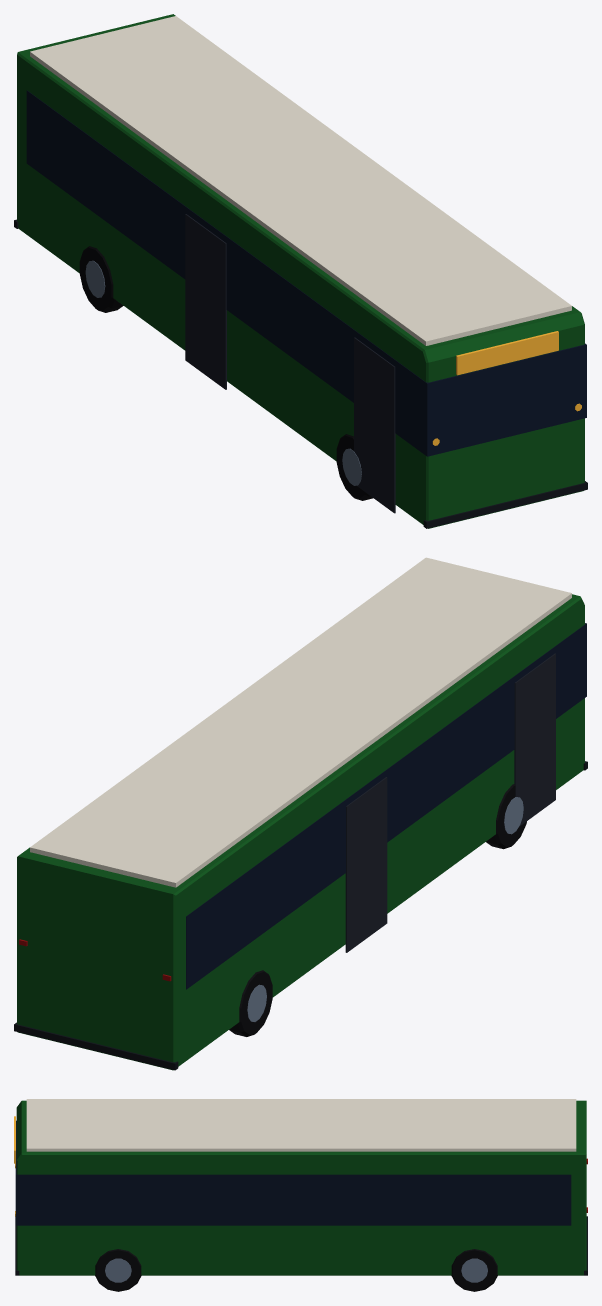
Rendered from pq_bus.obj.
The picture shows the model from 3 angles, top to bottom: view 1: azimuth 30°, elevation 25°; view 2: azimuth 150°, elevation 25°; view 3: azimuth 270°, elevation 25°; orthographic projection. The views are drawn at different scales.
Parts seen in each view (by area): view 1: Bus roof, Bus body, Bus windows, Bus doors, Bus sign, Bus bumpers, Bus wheels back, Bus wheels front; view 2: Bus body, Bus roof, Bus windows, Bus doors, Bus bumpers, Bus wheels back, Bus wheels front; view 3: Bus body, Bus roof, Bus windows, Bus wheels front, Bus wheels back, Bus wheels front_1, Bus wheels back_1.
Part boxes in pixels (bbox=[...]): Bus roof: bbox=[30, 16, 571, 345]; Bus body: bbox=[17, 14, 584, 528]; Bus windows: bbox=[26, 90, 586, 456]; Bus doors: bbox=[185, 214, 395, 513]; Bus sign: bbox=[456, 331, 558, 375]; Bus bumpers: bbox=[14, 219, 587, 528]; Bus wheels back: bbox=[79, 246, 123, 312]; Bus wheels front: bbox=[336, 434, 373, 500]; Bus body: bbox=[17, 594, 584, 1070]; Bus roof: bbox=[30, 557, 571, 887]; Bus windows: bbox=[186, 623, 586, 989]; Bus doors: bbox=[345, 653, 555, 952]; Bus bumpers: bbox=[14, 761, 587, 1070]; Bus wheels back: bbox=[229, 970, 272, 1036]; Bus wheels front: bbox=[486, 784, 526, 849]; Bus body: bbox=[16, 1100, 586, 1275]; Bus roof: bbox=[26, 1099, 576, 1151]; Bus windows: bbox=[15, 1120, 571, 1225]; Bus wheels front: bbox=[95, 1249, 141, 1291]; Bus wheels back: bbox=[451, 1249, 497, 1291]; Bus wheels front_1: bbox=[105, 1258, 131, 1282]; Bus wheels back_1: bbox=[461, 1258, 487, 1282].
Size of the model in its own units: 2.55 by 3.07 by 11.28.
